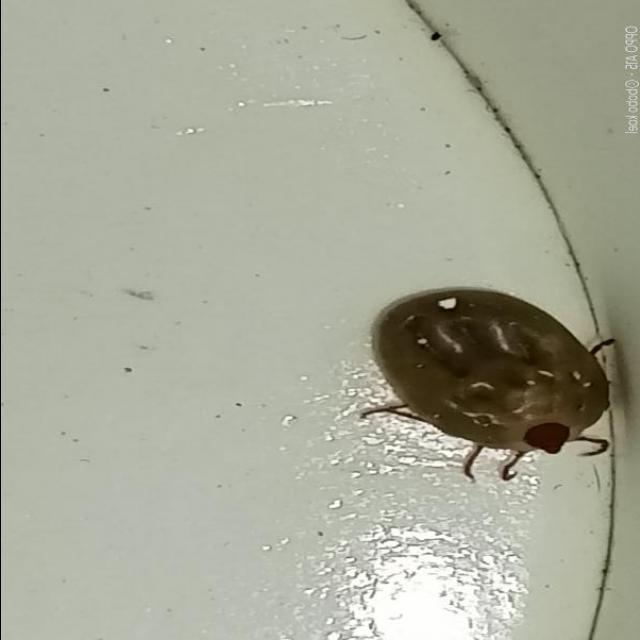Rhipicephalus Sanguineus-F-Fed: (359, 286, 616, 482)
